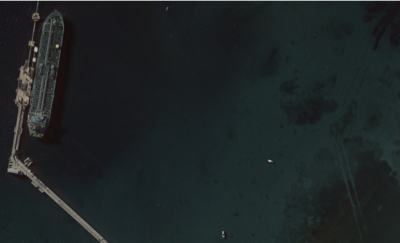boat: (24, 9, 66, 138), (267, 158, 275, 165), (220, 231, 226, 239)
